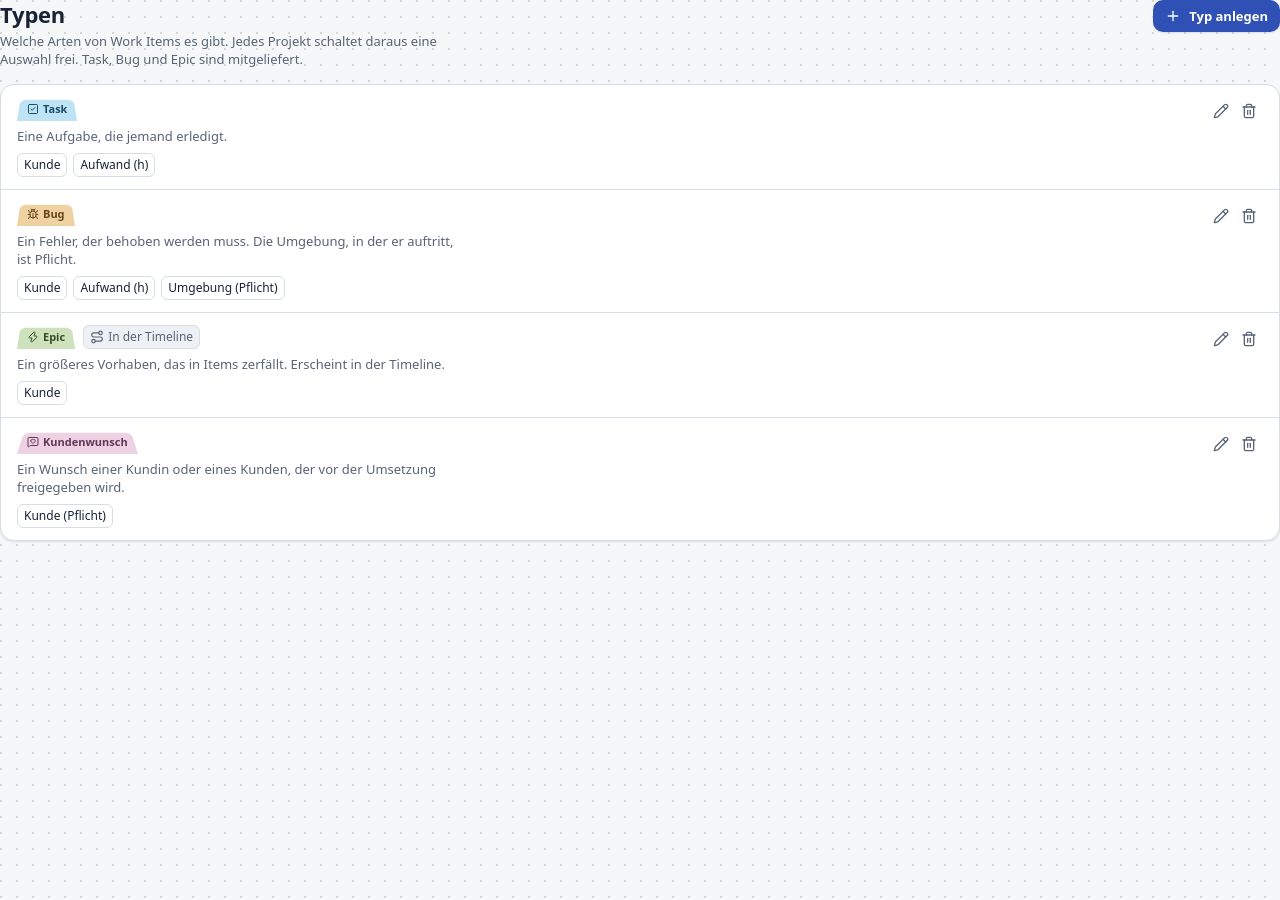
it: Types › shows a refusal of the properties at the choice of properties
Click the button named "Typ „Epic“ bearbeiten".
click(1221, 339)  # box [1207,325,1235,353]
(page scrolled)
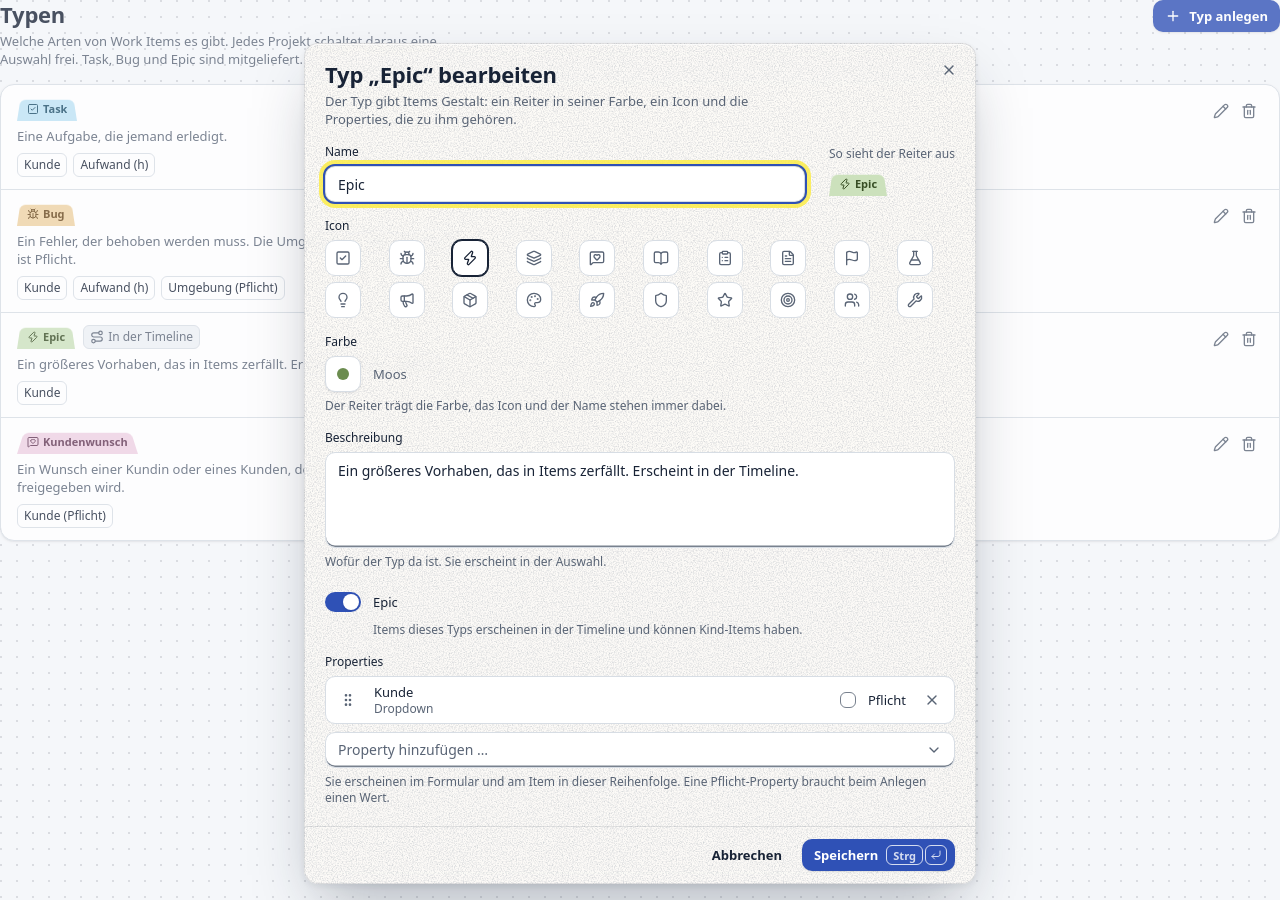
Click the button "Speichern Strg".
click(878, 855)  # box [802,839,955,871]
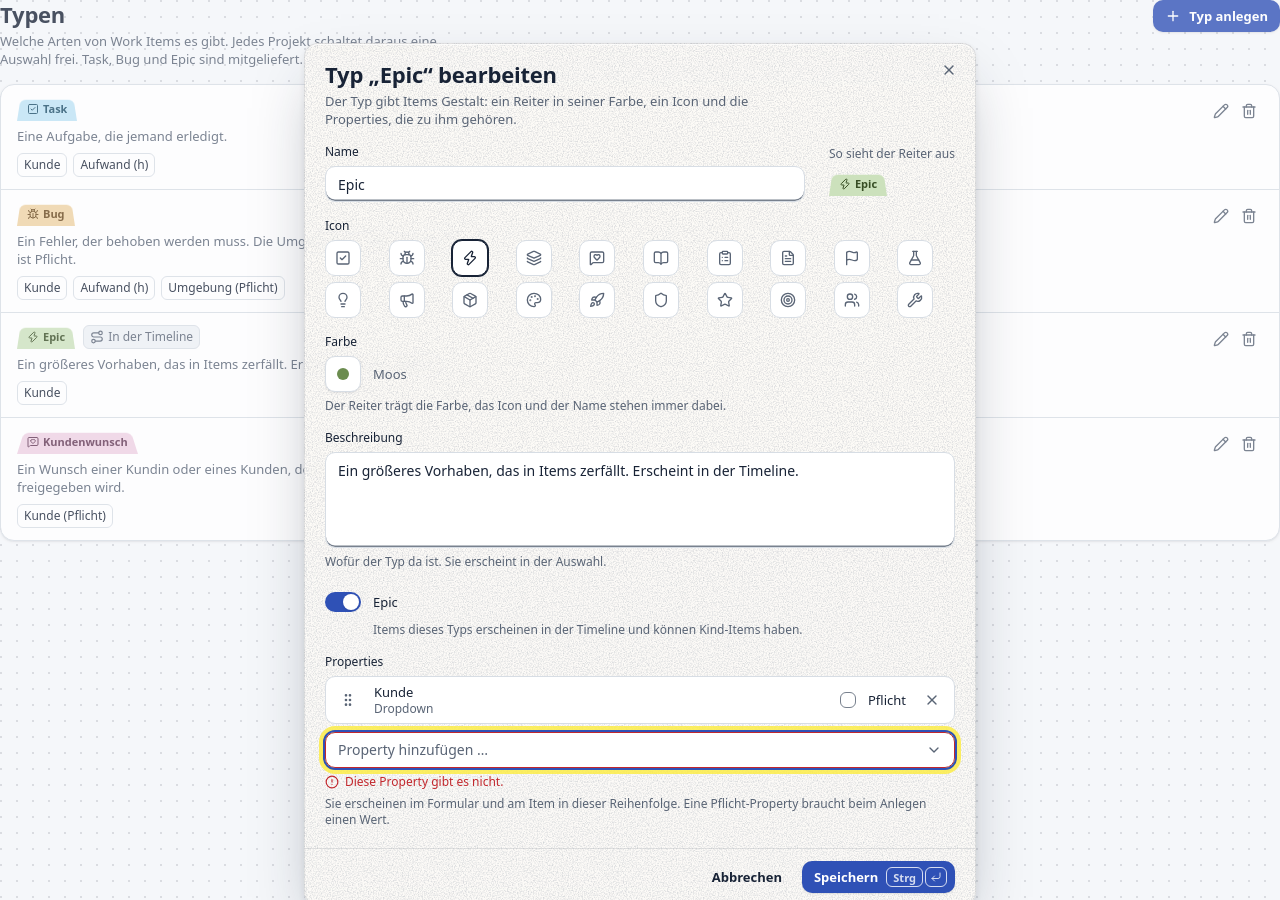
Check: the text "Diese Property gibt es nicht." is shown, box [325,773,503,790]
